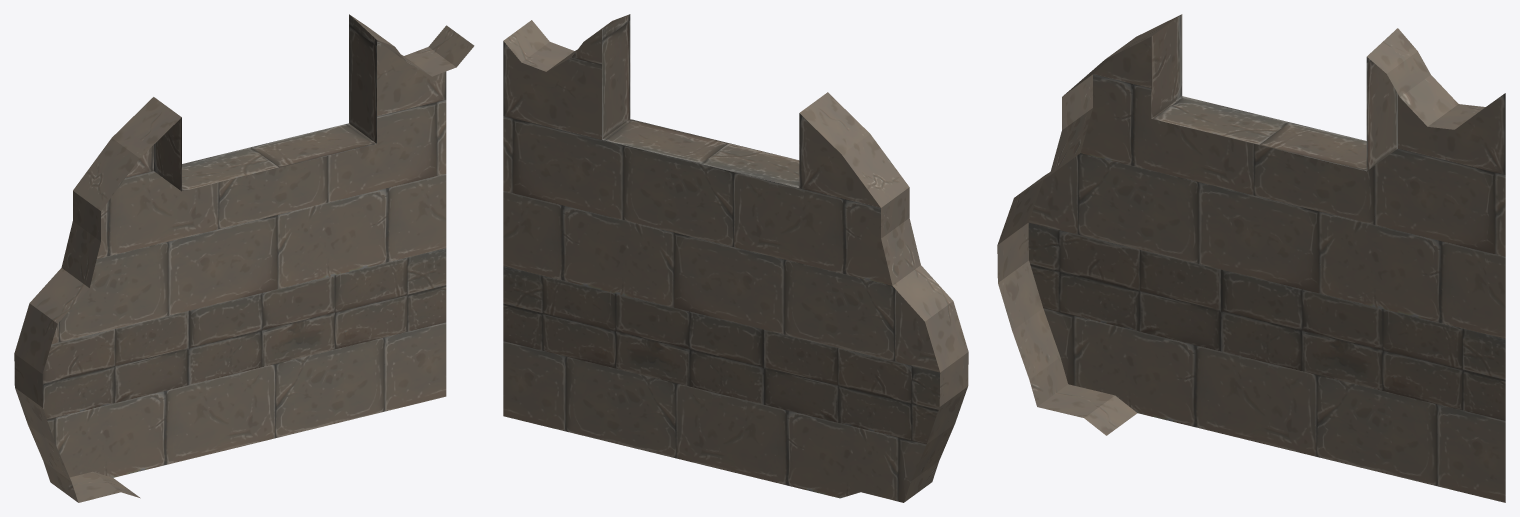
File: Ruins_WindowWall_Broken_03a.fbx
3 views of the same model, side by side, from view 1: azimuth 30°, elevation 25°; view 2: azimuth 150°, elevation 25°; view 3: azimuth 330°, elevation 25° (orthographic). The views are drawn at different scales.
Visible parts, largest first — view 1: Ruins_WindowWall_Broken_03a; view 2: Ruins_WindowWall_Broken_03a; view 3: Ruins_WindowWall_Broken_03a.
Part boxes in pixels (bbox=[...]): Ruins_WindowWall_Broken_03a: bbox=[14, 14, 474, 502]; Ruins_WindowWall_Broken_03a: bbox=[503, 14, 968, 502]; Ruins_WindowWall_Broken_03a: bbox=[997, 14, 1505, 502].
Bounding box in the file's own units: 4.43 × 3.98 × 0.5.
1 material, 1 textured.
